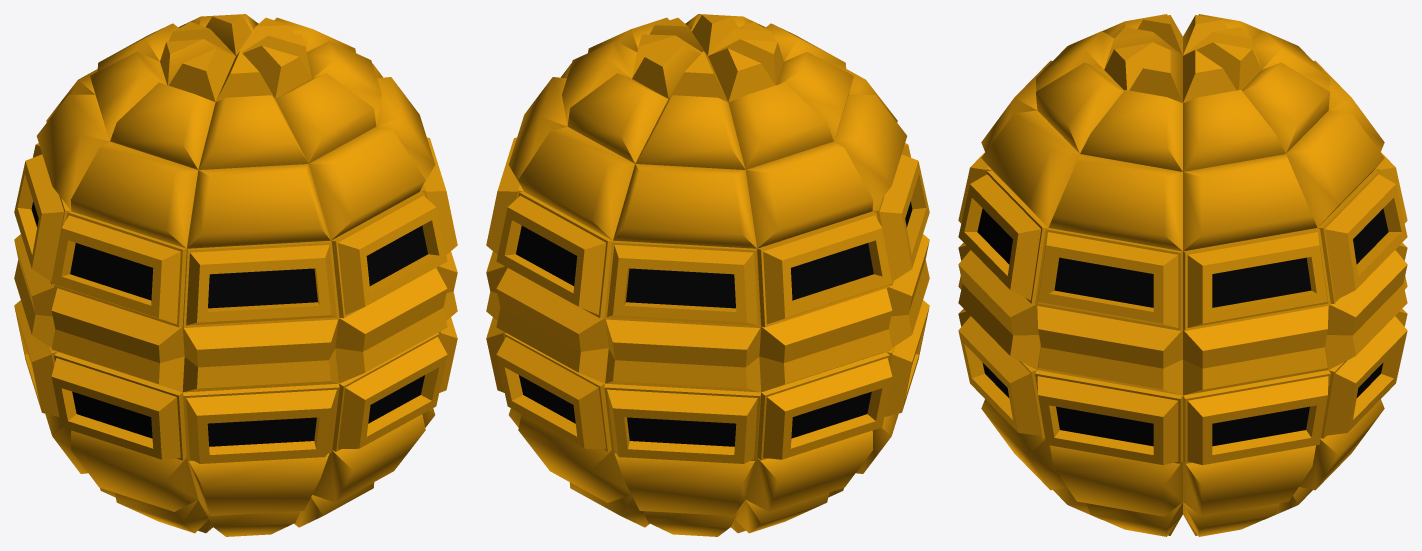
The model's file is SphereP.fbx.
3 views of the same model, side by side, from view 1: azimuth 30°, elevation 25°; view 2: azimuth 150°, elevation 25°; view 3: azimuth 270°, elevation 25° (orthographic).
Parts seen in each view (by area): view 1: pSphere8, pSphere3, pSphere9, pSphere6, pSphere2, pSphere5, pSphere7; view 2: pSphere6, pSphere5, pSphere7, pSphere8, pSphere4, pSphere3, pSphere9; view 3: pSphere7, pSphere9, pSphere2, pSphere4, pSphere6, pSphere8.
Part boxes in pixels (bbox=[...]): pSphere8: bbox=[51, 48, 339, 367]; pSphere3: bbox=[51, 329, 339, 536]; pSphere9: bbox=[242, 34, 457, 351]; pSphere6: bbox=[14, 22, 235, 316]; pSphere2: bbox=[294, 291, 457, 527]; pSphere5: bbox=[14, 260, 115, 497]; pSphere7: bbox=[178, 14, 382, 78]; pSphere6: bbox=[604, 48, 892, 367]; pSphere5: bbox=[604, 329, 892, 536]; pSphere7: bbox=[486, 34, 701, 351]; pSphere8: bbox=[708, 22, 929, 316]; pSphere4: bbox=[486, 291, 649, 527]; pSphere3: bbox=[828, 260, 929, 497]; pSphere9: bbox=[561, 14, 765, 78]; pSphere7: bbox=[1183, 42, 1407, 368]; pSphere9: bbox=[958, 42, 1182, 368]; pSphere2: bbox=[958, 284, 1182, 536]; pSphere4: bbox=[1183, 284, 1407, 536]; pSphere6: bbox=[1183, 14, 1407, 260]; pSphere8: bbox=[958, 14, 1182, 260].
Bounding box in the file's own units: 2.18 × 2.55 × 2.18.
